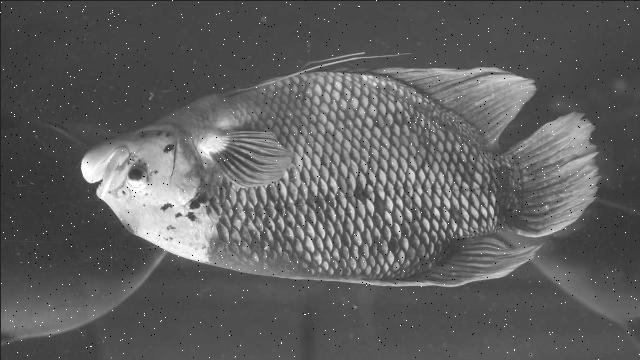Mulut: (61, 126, 152, 216)
Sirip Anal: (356, 44, 550, 163)
Sirip Dada: (188, 108, 308, 200)
Sirip Ekor: (485, 104, 615, 252)
Sirip Punggung: (334, 226, 550, 302)
